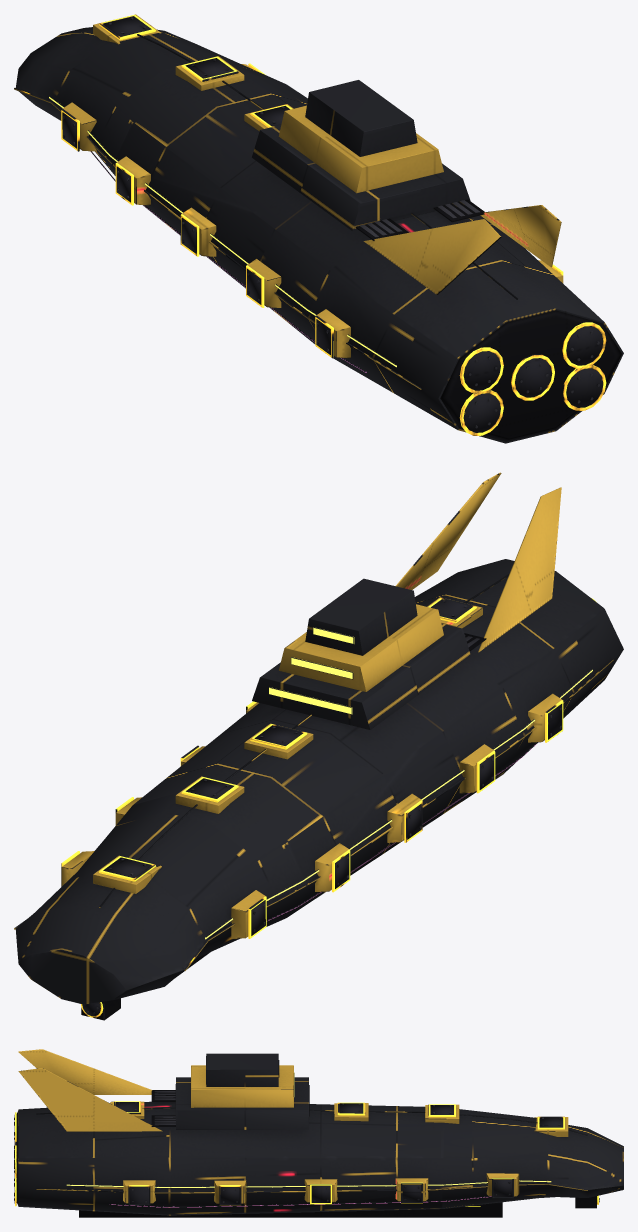
File: casco_crucero_t4.fbx
The picture shows the model from 3 angles, top to bottom: view 1: azimuth 30°, elevation 25°; view 2: azimuth 150°, elevation 25°; view 3: azimuth 270°, elevation 25°; orthographic projection. The views are drawn at different scales.
Parts seen in each view (by area): view 1: casco_crucero_t4; view 2: casco_crucero_t4, casco_crucero_t4_neon; view 3: casco_crucero_t4, casco_crucero_t4_neon, casco_crucero_t4_neon2.
Boxes of the visible parts, x1,y1,x2,y2 form: casco_crucero_t4: (14,14,623,443); casco_crucero_t4: (14,472,623,1020); casco_crucero_t4_neon: (205,627,592,939); casco_crucero_t4: (14,1049,623,1217); casco_crucero_t4_neon: (66,1072,551,1187); casco_crucero_t4_neon2: (111,1196,491,1207).
Size of the model in its own units: 13.03 by 12.72 by 44.31.
